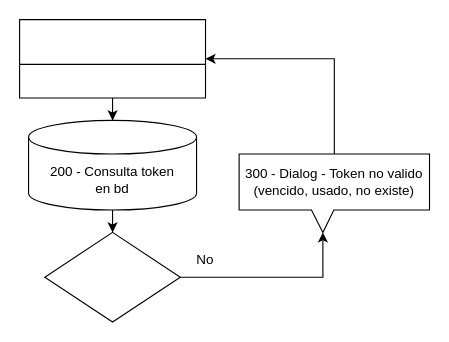
Some shapes in this 449 by 342 pixel diagram are drawn without their labels. Here are the shapes that lost their labels. From the top down, the box of each, then its label:
(18, 18, 206, 98): 100 - Formulario Ingrese token
(44, 231, 180, 322): Es Valido?
